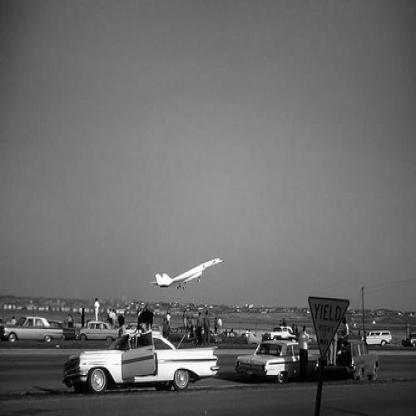XB70: (149, 257, 227, 292)
